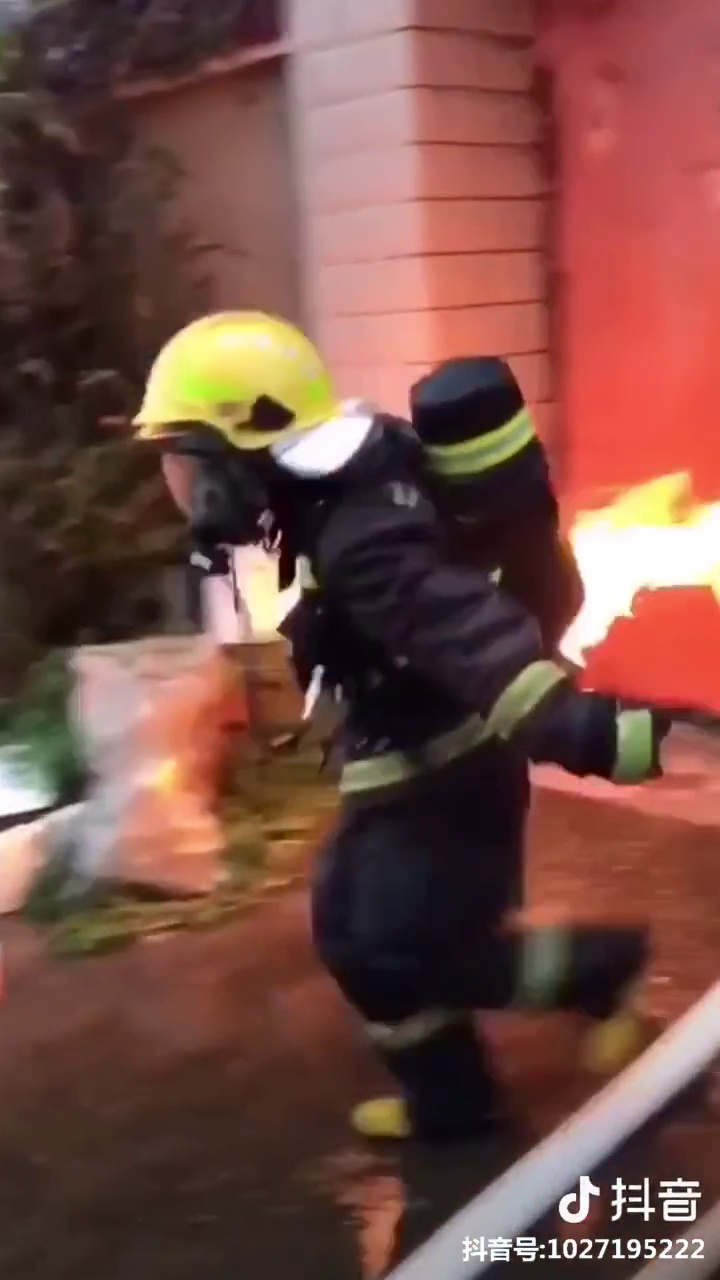fire: (531, 459, 692, 626)
